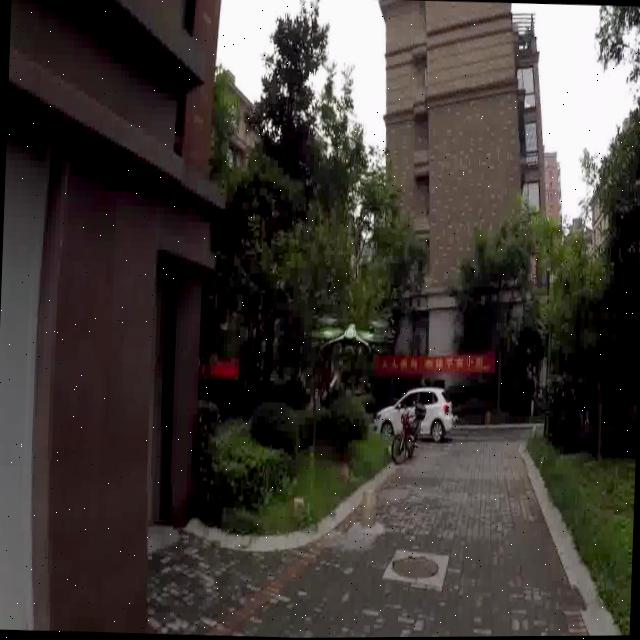drone: (306, 295, 394, 372)
